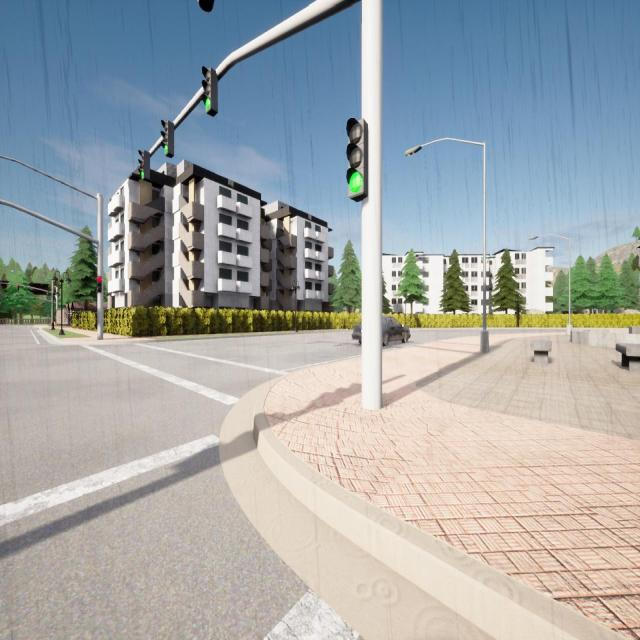Vehicle: (352, 316, 411, 346)
traffic_light: (346, 117, 368, 202), (202, 66, 218, 116), (161, 120, 174, 158), (138, 150, 150, 182), (97, 276, 102, 292), (18, 284, 20, 290), (7, 296, 8, 300), (20, 297, 21, 301), (34, 298, 35, 302)
